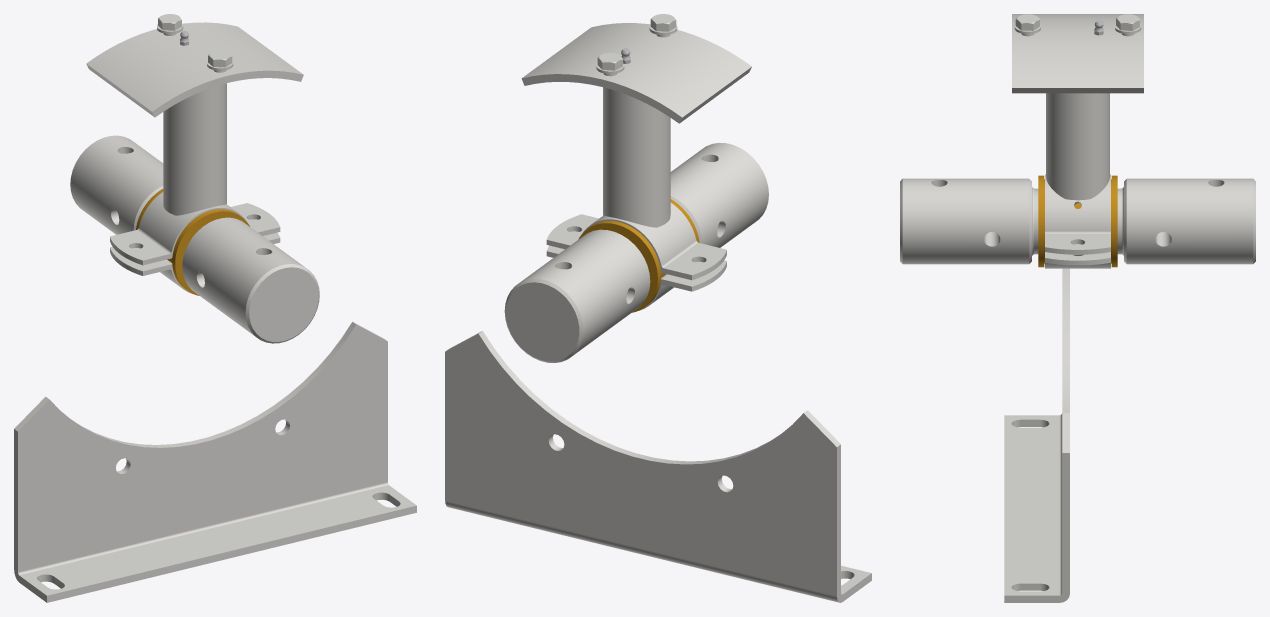
The model's file is 17855 Intermediate bearing 300.obj.
The picture shows the model from 3 angles, left to right: view 1: azimuth 30°, elevation 25°; view 2: azimuth 150°, elevation 25°; view 3: azimuth 270°, elevation 25°; orthographic projection. The views are drawn at different scales.
Parts seen in each view (by area): view 1: Solid2:6, Solid2:7, Solid2:5, Solid2:4, Solid2, Solid2:2, Solid2:1; view 2: Solid2:6, Solid2:7, Solid2:5, Solid2:4, Solid2, Solid2:2, Solid2:1; view 3: Solid2:7, Solid2:6, Solid2:5, Solid2:4, Solid2, Solid2:1, Solid2:2.
Boxes of the visible parts, x1=… form: Solid2:6: x1=14, y1=322, x2=416, y2=602; Solid2:7: x1=70, y1=135, x2=319, y2=343; Solid2:5: x1=86, y1=22, x2=303, y2=117; Solid2:4: x1=163, y1=83, x2=226, y2=215; Solid2: x1=110, y1=192, x2=280, y2=265; Solid2:2: x1=136, y1=189, x2=249, y2=263; Solid2:1: x1=110, y1=219, x2=280, y2=293; Solid2:6: x1=445, y1=331, x2=871, y2=602; Solid2:7: x1=504, y1=143, x2=768, y2=362; Solid2:5: x1=521, y1=23, x2=751, y2=123; Solid2:4: x1=603, y1=87, x2=670, y2=227; Solid2: x1=546, y1=202, x2=726, y2=280; Solid2:2: x1=578, y1=199, x2=699, y2=278; Solid2:1: x1=546, y1=231, x2=726, y2=310; Solid2:7: x1=900, y1=178, x2=1255, y2=264; Solid2:6: x1=1004, y1=268, x2=1069, y2=602; Solid2:5: x1=1012, y1=14, x2=1143, y2=93; Solid2:4: x1=1046, y1=93, x2=1109, y2=200; Solid2: x1=1045, y1=174, x2=1110, y2=254; Solid2:1: x1=1045, y1=244, x2=1110, y2=268; Solid2:2: x1=1038, y1=175, x2=1117, y2=240.
Bounding box in the file's own units: 324 × 414 × 270.
